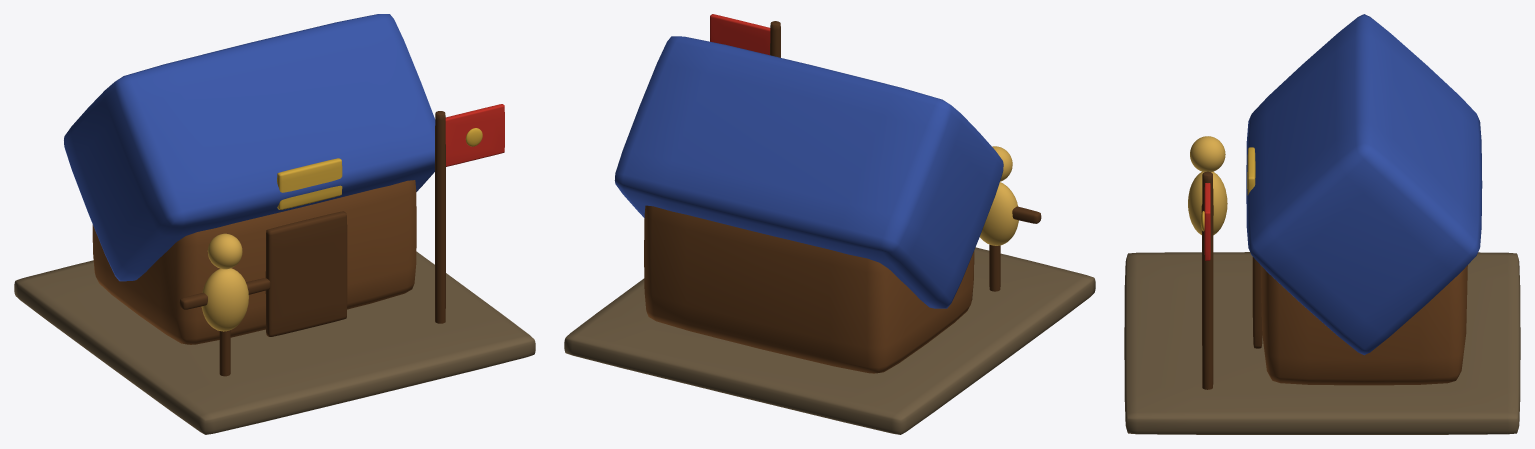
Rendered from Heldenhuette.fbx.
The picture shows the model from 3 angles, left to right: view 1: azimuth 30°, elevation 25°; view 2: azimuth 150°, elevation 25°; view 3: azimuth 270°, elevation 25°; orthographic projection. The views are drawn at different scales.
Parts seen in each view (by area): view 1: Heldenhuette; view 2: Heldenhuette; view 3: Heldenhuette.
Boxes of the visible parts, box(x1,y1,x2,y2) form: Heldenhuette: box(14, 14, 535, 434); Heldenhuette: box(564, 14, 1095, 434); Heldenhuette: box(1124, 14, 1520, 434).
Bounding box in the file's own units: 1.93 × 1.46 × 1.9.
